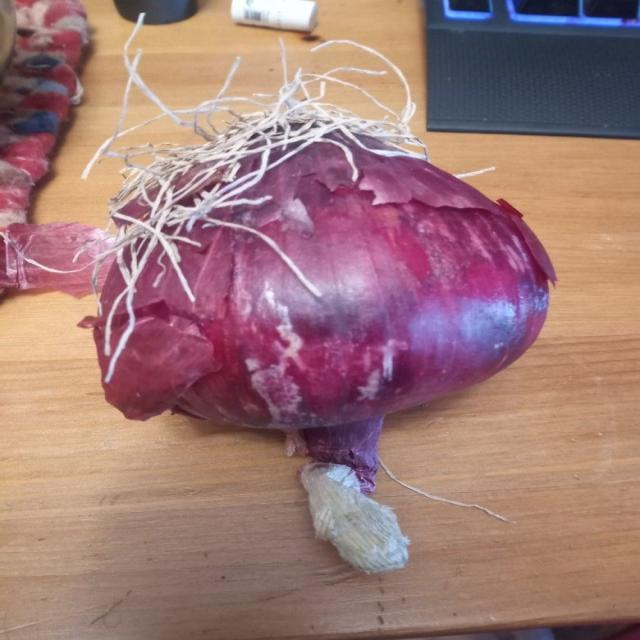sprouting: (48, 0, 574, 640)
